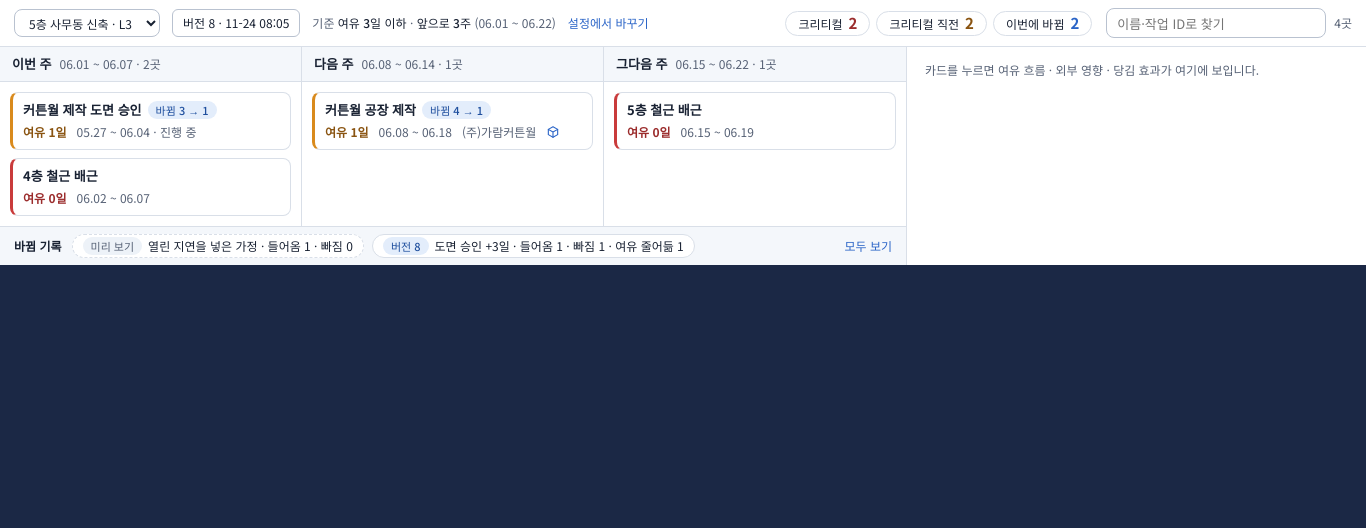
Test: the history strip shows the preview and versions; 모두 보기 groups every version with reasons and is searchable
The image size is (1366, 528).
Check: the element "바뀜 기록" shows "도면 승인 +3일 · 들어옴 1 · 빠짐 1 · 여유 줄어듦 1", box 434,237 -> 684,254
Check: the element "바뀜 기록" does not show "Data Date 05.25", box 0,226 -> 906,265
Click the button "모두 보기" at (868, 246), box 844,237 -> 892,255
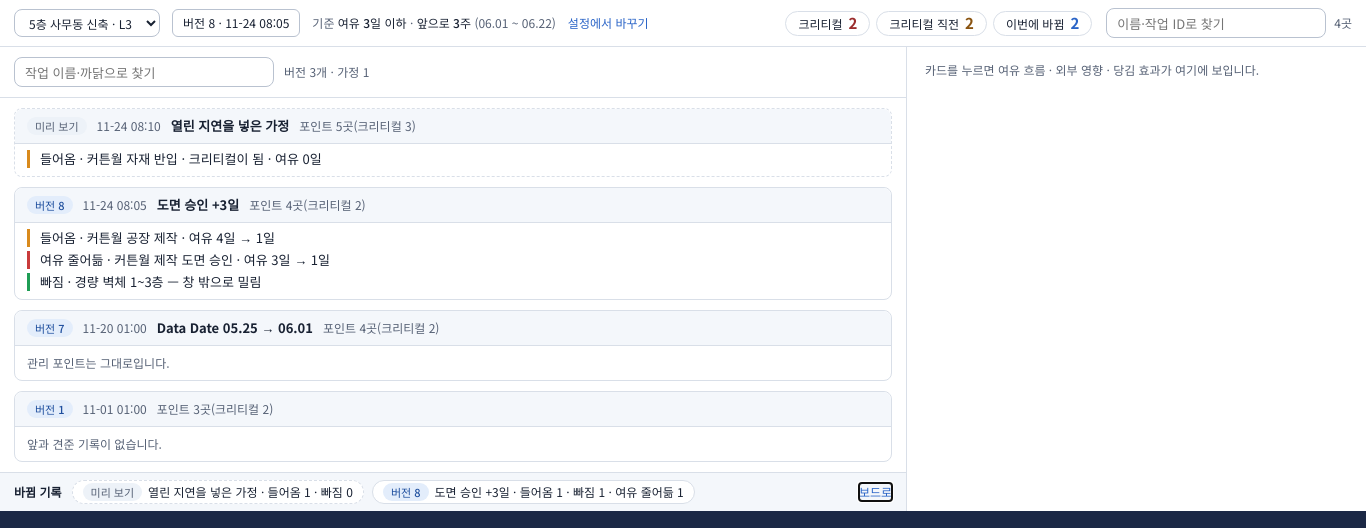
Check: the text "이번 주" is gone
Check: the element "버전 8" shows "빠짐 · 경량 벽체 1~3층 — 창 밖으로 밀림", box 40,272 -> 262,291
Check: the element "버전 8" shows "들어옴 · 커튼월 공장 제작 · 여유 4일 → 1일", box 40,228 -> 275,247
Type "경량" into the search field named "바뀜 기록 찾기" at (144, 72), box 14,57 -> 274,87
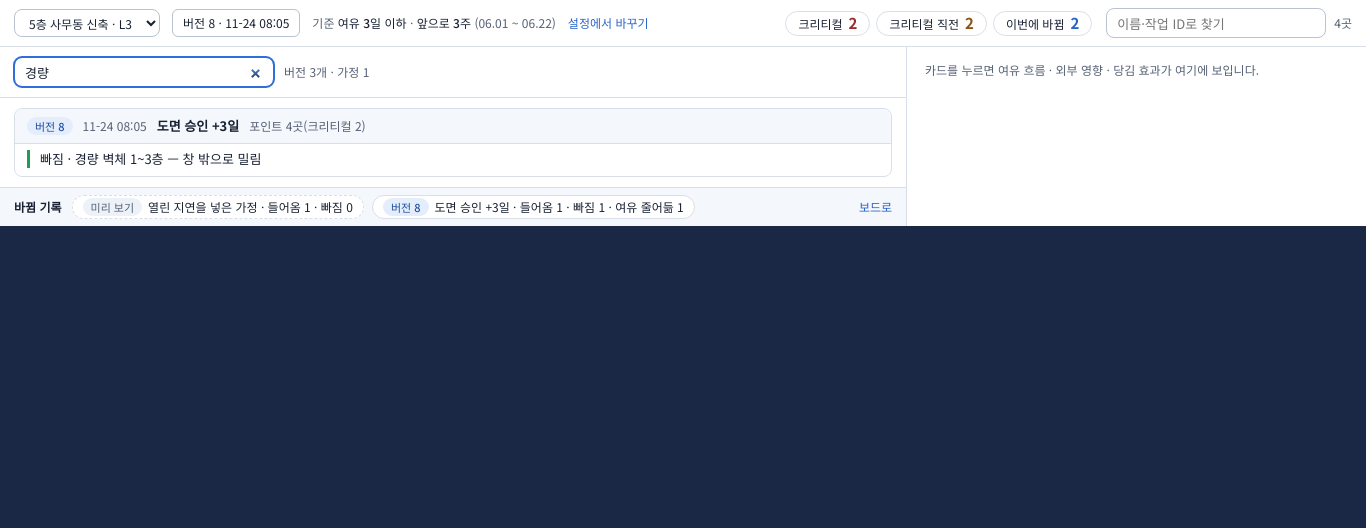
Click the button "보드로" at (875, 207), box 859,198 -> 892,216
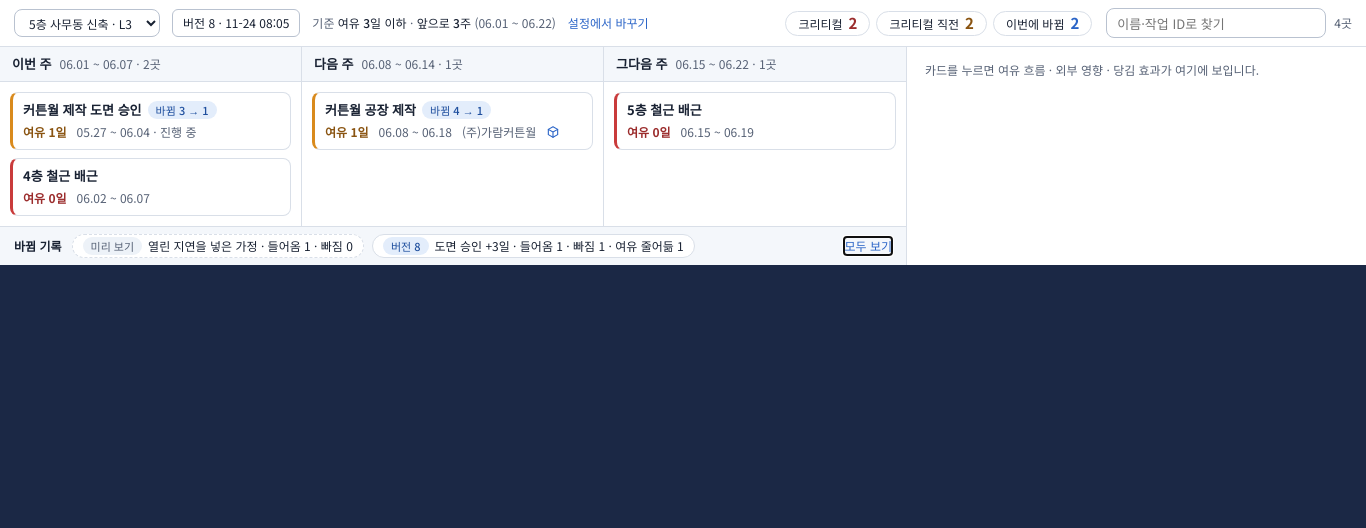
Check: the element "이번 주" is shown, box 0,47 -> 302,226
